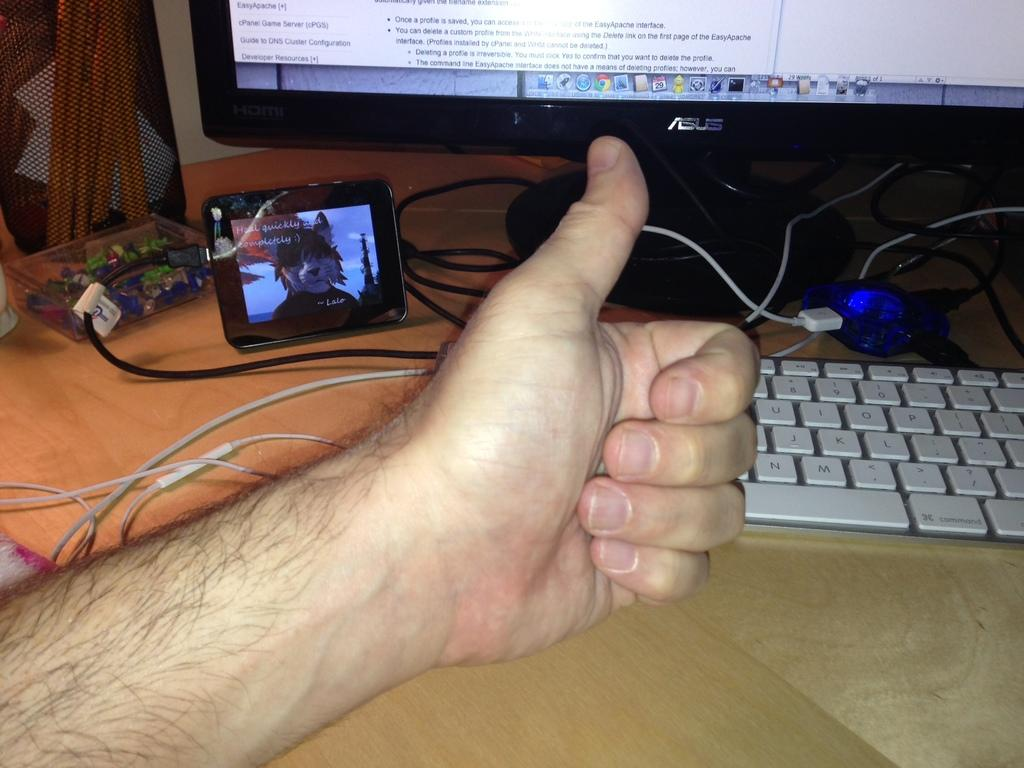Computer-keyboard: (733, 357, 1023, 549)
Computer-monitor: (189, 0, 1023, 319)
